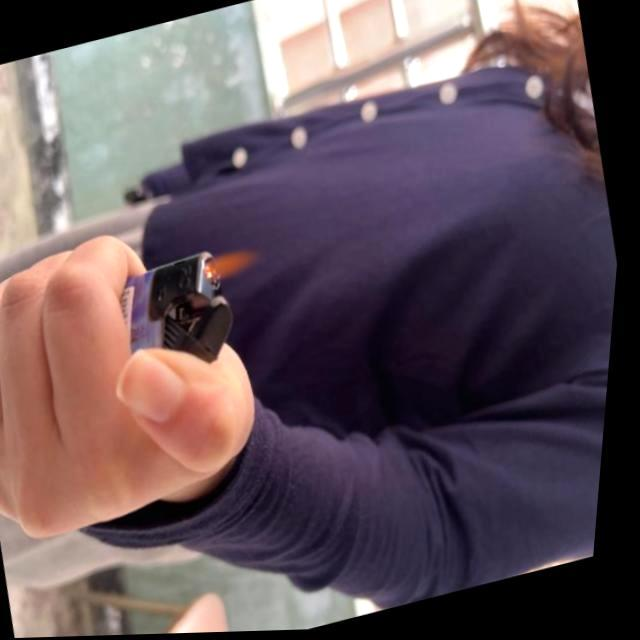fire: (203, 244, 269, 286)
